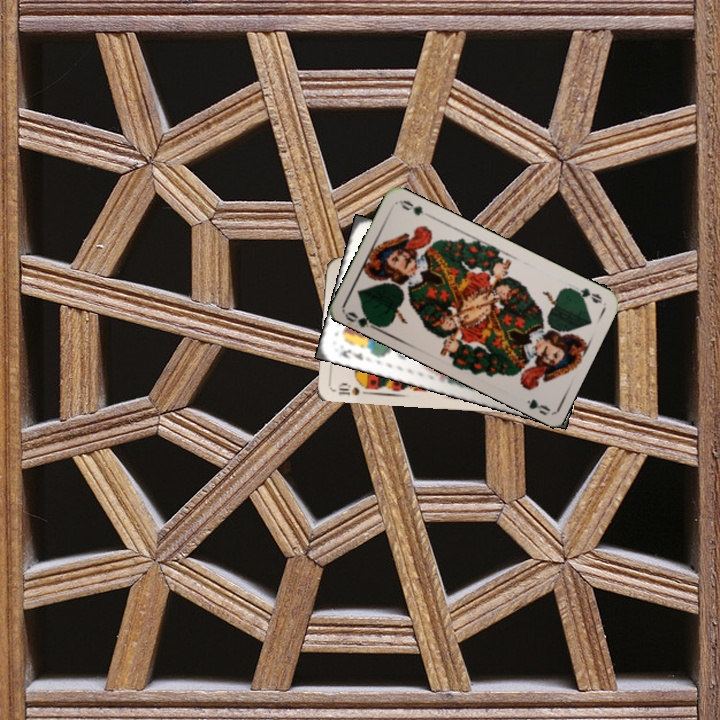EK: (336, 345, 366, 363)
GO: (342, 307, 382, 333), (566, 284, 604, 306)
S10: (334, 379, 371, 398)
